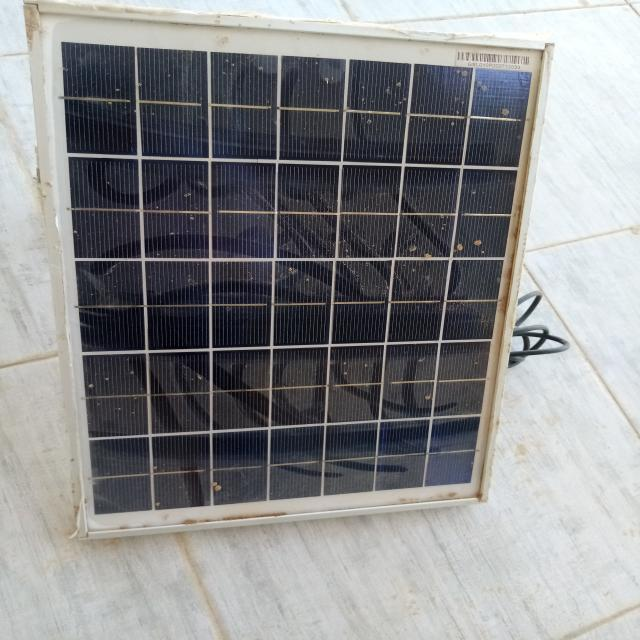faulty: (34, 4, 552, 537)
